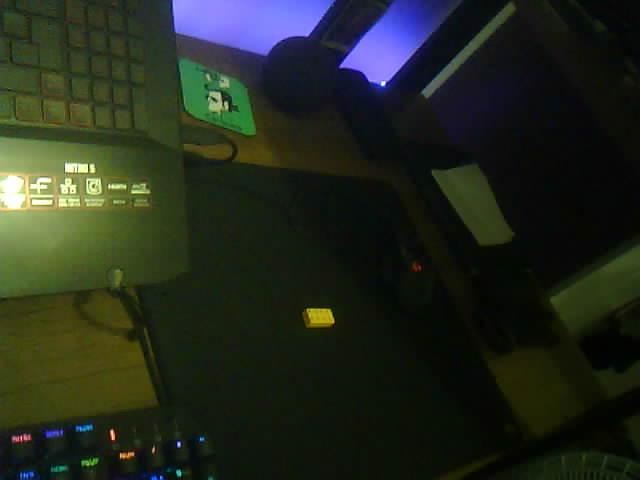lego: (302, 307, 335, 329)
